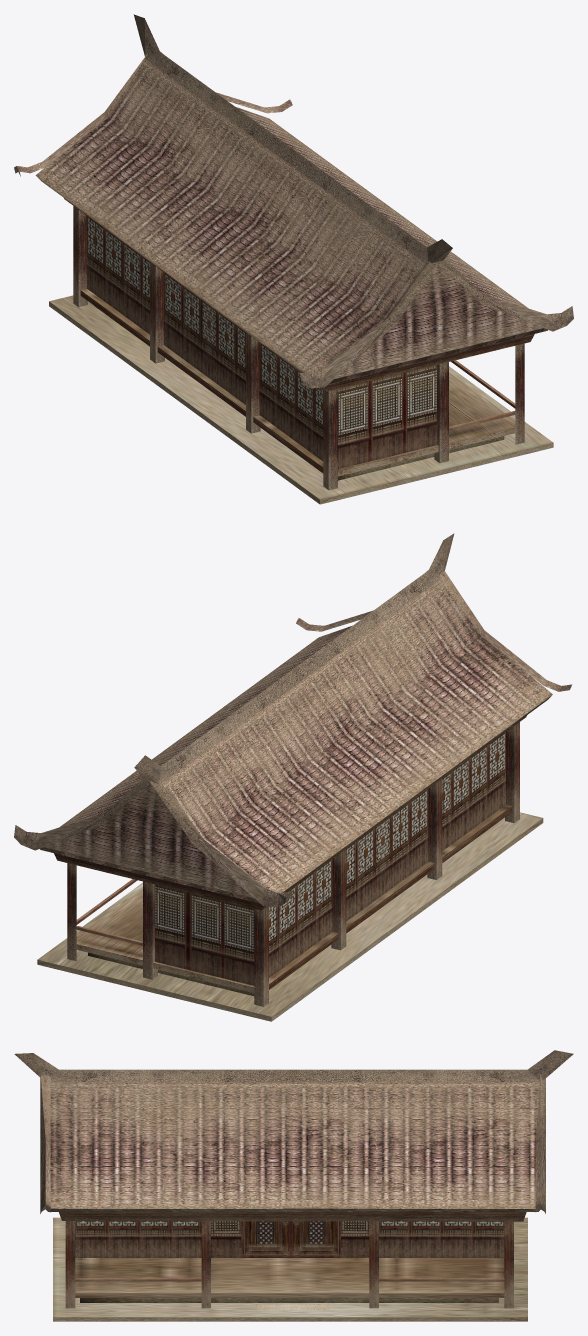
Rendered from desert-033-guesthouse-02_lod_01.glb.
3 views of the same model, one above another, from view 1: azimuth 30°, elevation 25°; view 2: azimuth 150°, elevation 25°; view 3: azimuth 270°, elevation 25° (orthographic). The views are drawn at different scales.
Parts seen in each view (by area): view 1: desert-033-guesthouse-01, desert-033-guesthouse-02; view 2: desert-033-guesthouse-01, desert-033-guesthouse-02; view 3: desert-033-guesthouse-01, desert-033-guesthouse-02.
Boxes of the visible parts, x1=… form: desert-033-guesthouse-01: x1=14, y1=14, x2=573, y2=480; desert-033-guesthouse-02: x1=49, y1=198, x2=553, y2=504; desert-033-guesthouse-01: x1=14, y1=533, x2=572, y2=996; desert-033-guesthouse-02: x1=37, y1=715, x2=543, y2=1021; desert-033-guesthouse-01: x1=14, y1=1050, x2=573, y2=1310; desert-033-guesthouse-02: x1=53, y1=1208, x2=527, y2=1321.
Size of the model in its own units: 13.56 by 11.86 by 27.45.
2 materials, 2 textured.
